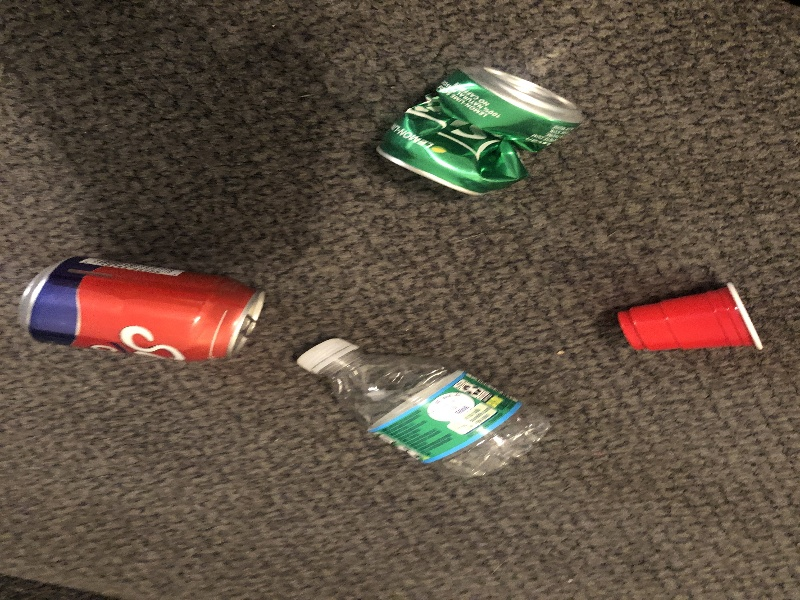metal: (16, 247, 269, 370), (373, 62, 585, 199)
plastic: (290, 335, 554, 480), (610, 278, 772, 357)
